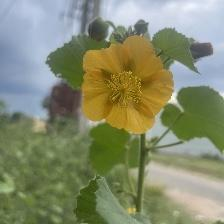indian mallow: (82, 33, 177, 135)
